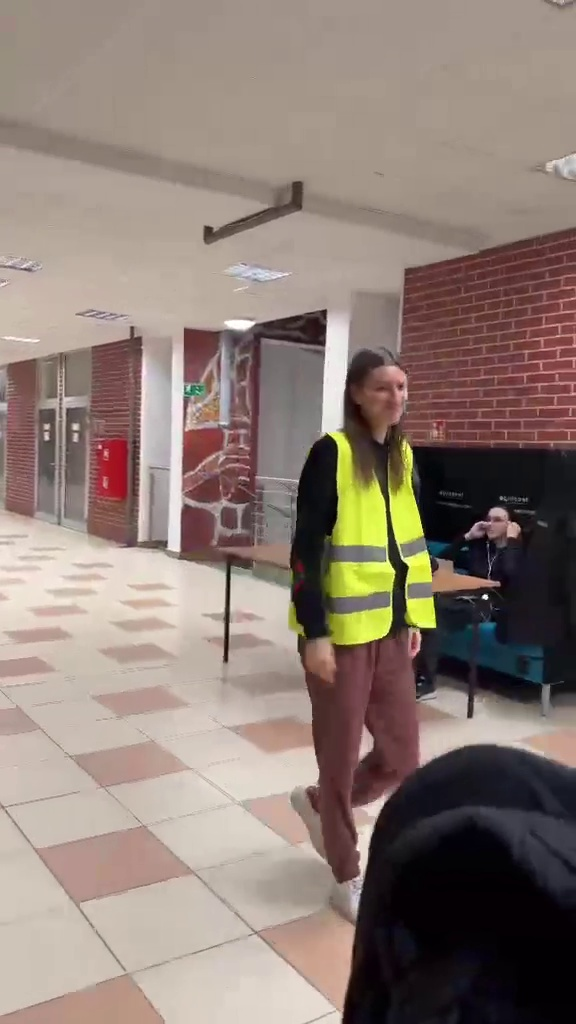no vest: (427, 494, 538, 665)
vest: (286, 342, 452, 909)
